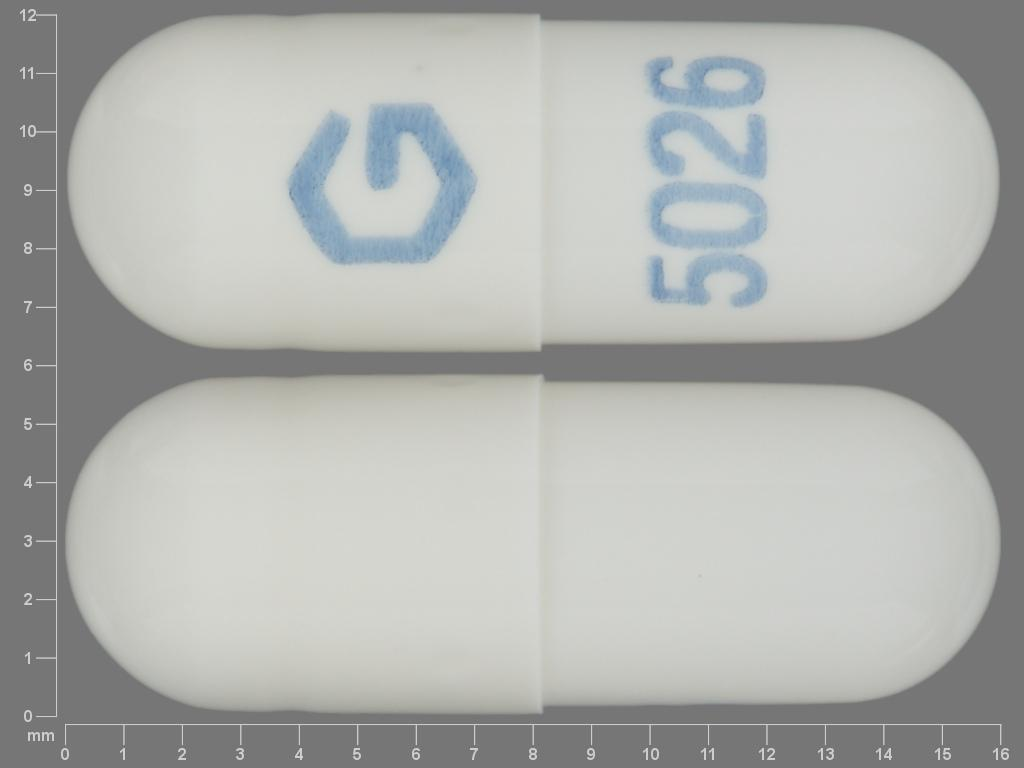Pill: (65, 6, 1002, 358), (62, 369, 1012, 715)
